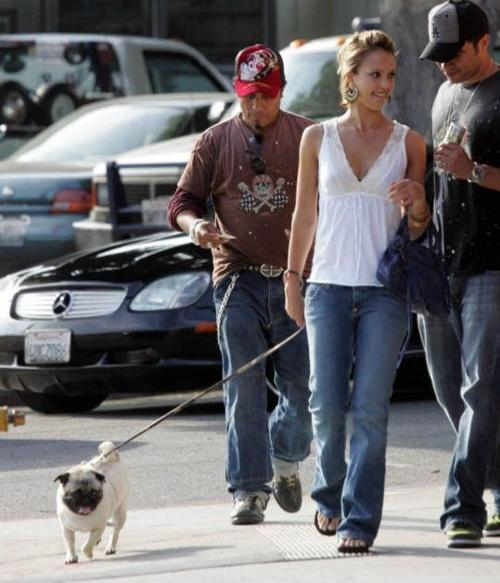person: (286, 31, 426, 555)
